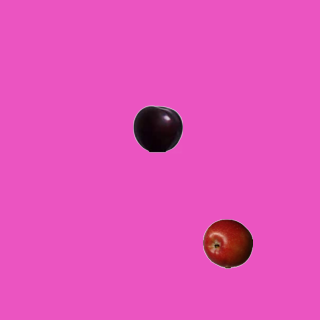Apple Braeburn: (202, 218, 252, 268)
Cherry Wax Black: (132, 103, 182, 153)
